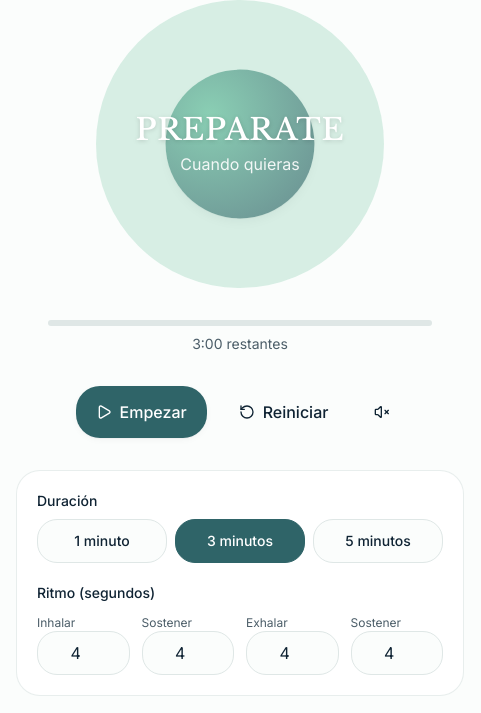
Test case: respiración guiada › al terminar la duración elegida avisa y muestra LISTO
Click the button "1 minuto".
click(102, 541)  # box [37, 519, 167, 563]
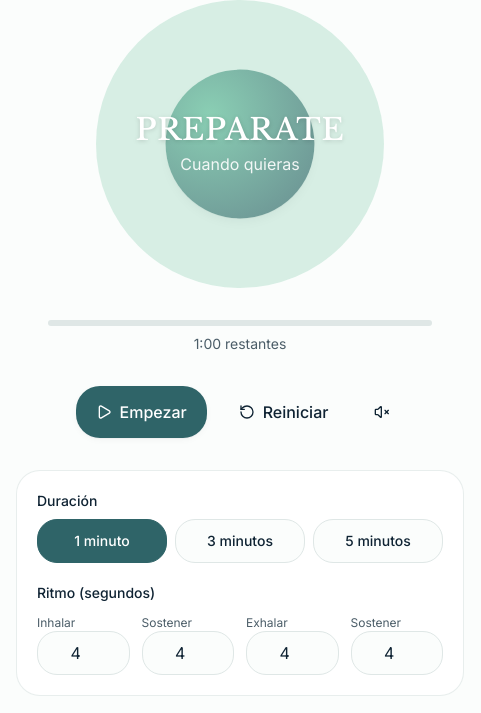
Click the button "Empezar".
click(141, 412)  # box [76, 386, 207, 438]
Wait 61000 ms
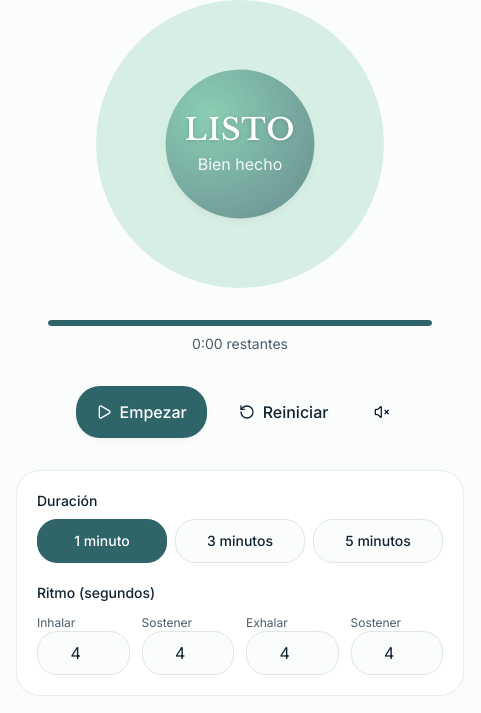
expect the text "LISTO" is shown: met, box [185, 112, 295, 148]
